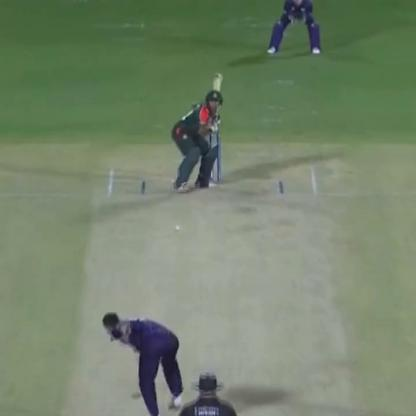ball: (171, 218, 183, 233)
bat: (204, 65, 229, 115)
pitch: (76, 159, 366, 416)
